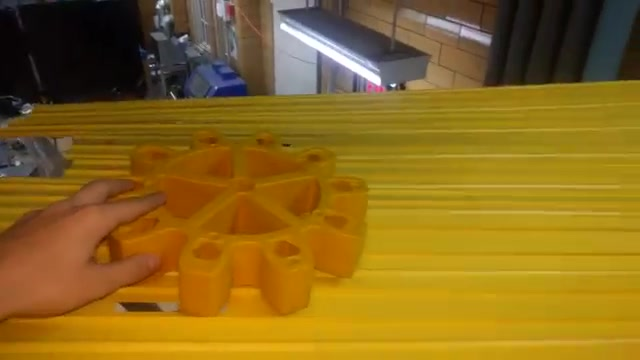gear: (96, 128, 389, 322)
